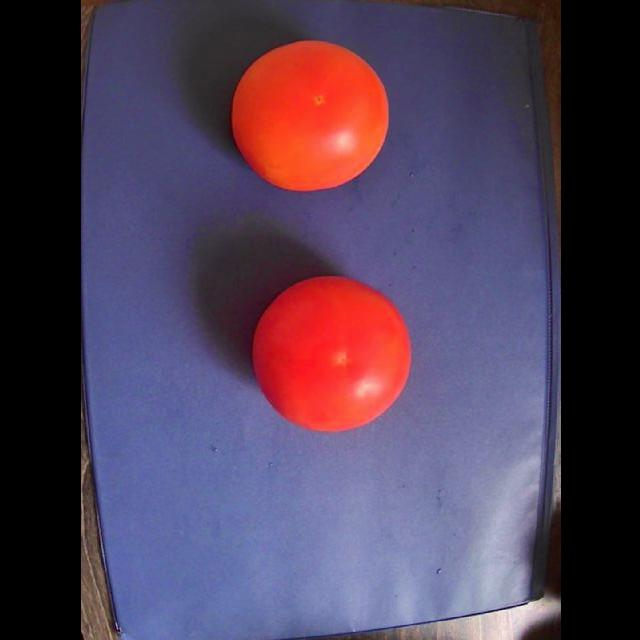tomate: (253, 276, 409, 431), (231, 41, 387, 190)
